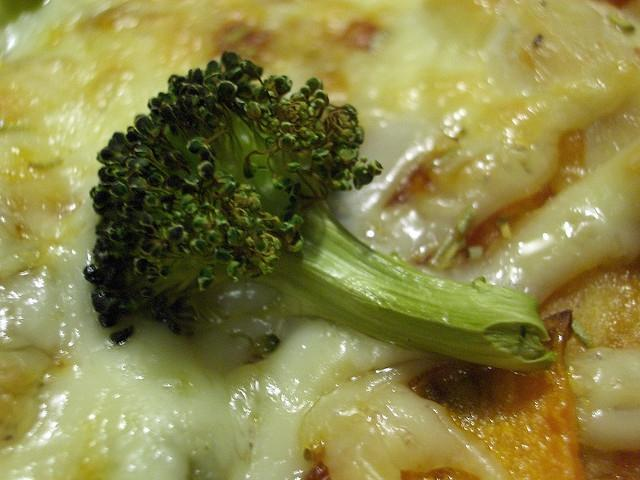broccoli: (81, 47, 558, 374)
